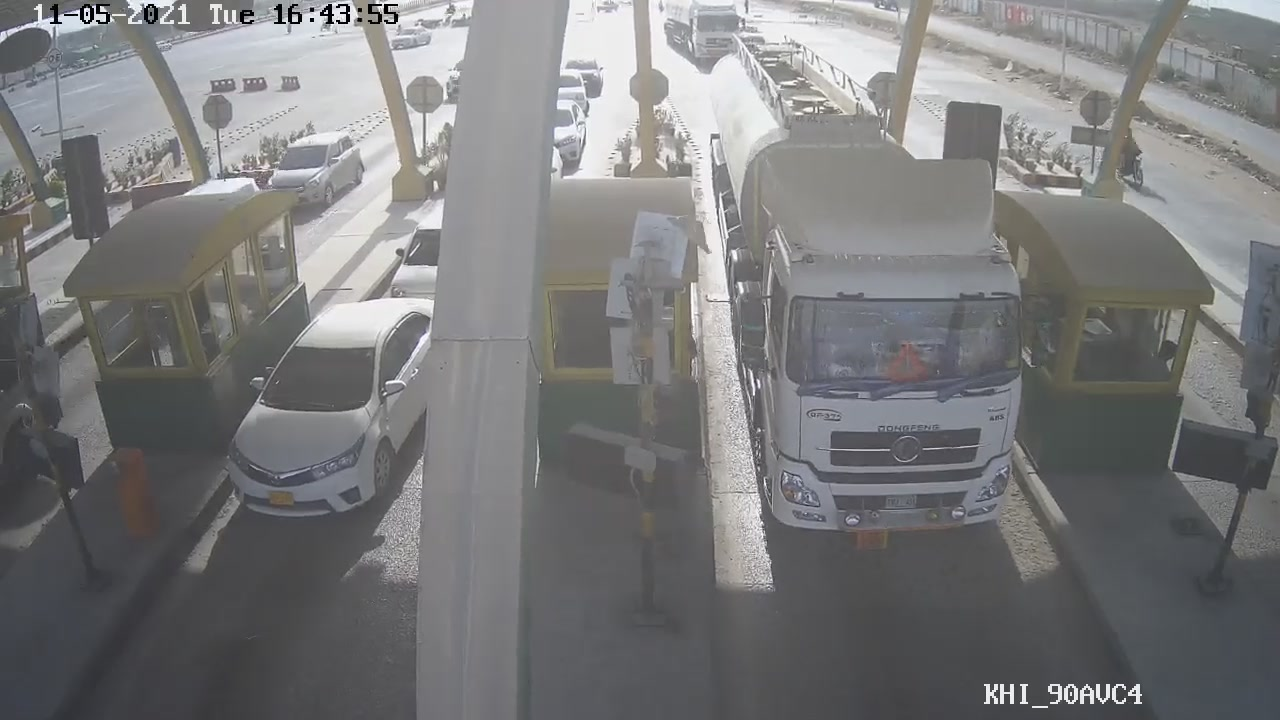F6: (698, 40, 1037, 550)
